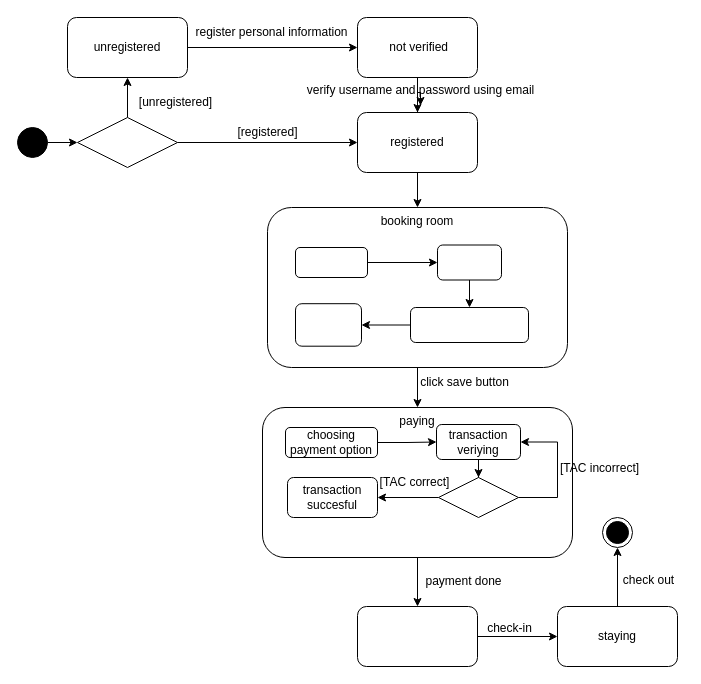
Image size: 701x684. Some labels were removed from this diagram. Here are the shapes that lost their labels. From the top down, the centre of each, then its label:
point (331, 262): browsing system
point (469, 262): choosing room
point (328, 324): confirm booking
point (469, 324): enter room quantity and stay duration
point (417, 636): booked
